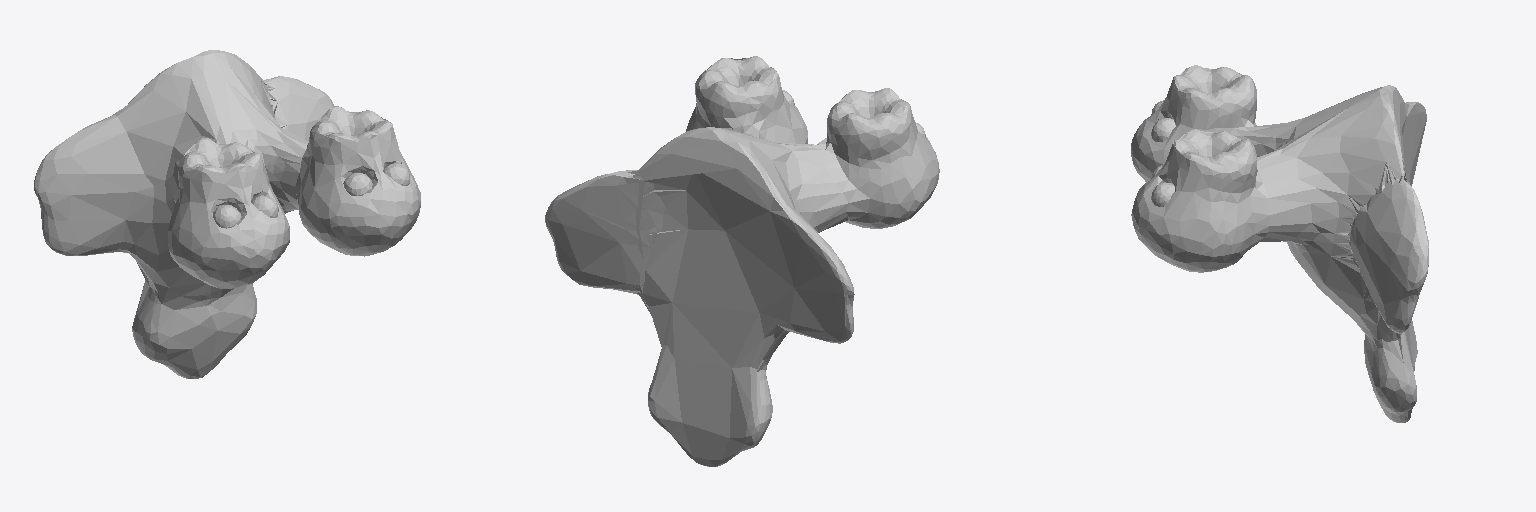
Rendered from assault.obj.
3 renders of one model, left to right at view 1: azimuth 30°, elevation 25°; view 2: azimuth 150°, elevation 25°; view 3: azimuth 270°, elevation 25°, orthographic.
Bounding box in the file's own units: 3.11 × 3.21 × 2.63.